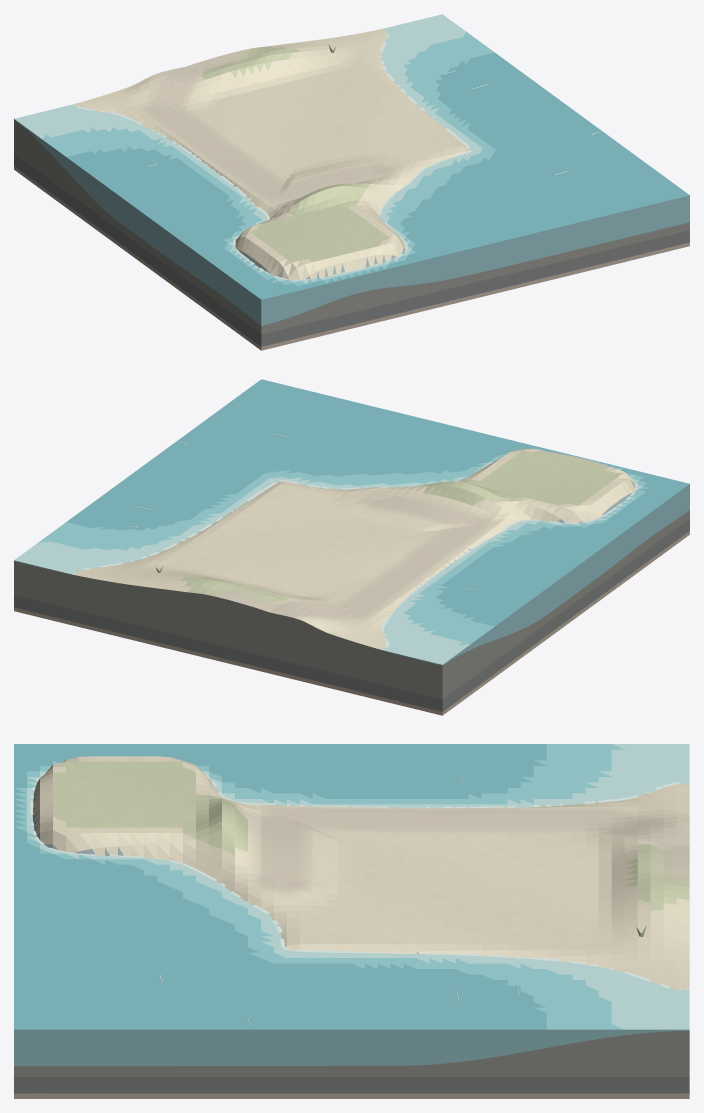
The picture shows the model from 3 angles, top to bottom: view 1: azimuth 30°, elevation 25°; view 2: azimuth 150°, elevation 25°; view 3: azimuth 270°, elevation 25°; orthographic projection. The views are drawn at different scales.
Parts seen in each view (by area): view 1: proc_water, proc_ground, proc_skirt, proc_water_side, proc_foam; view 2: proc_water, proc_ground, proc_skirt, proc_water_side, proc_foam; view 3: proc_water, proc_ground, proc_skirt, proc_water_side, proc_foam.
Boxes of the visible parts, <box> form: proc_water: <box>14,14,689,299</box>; proc_ground: <box>74,29,469,280</box>; proc_skirt: <box>14,120,689,350</box>; proc_water_side: <box>14,119,689,325</box>; proc_foam: <box>76,28,472,280</box>; proc_water: <box>14,379,689,664</box>; proc_ground: <box>74,448,635,649</box>; proc_skirt: <box>14,510,689,715</box>; proc_water_side: <box>14,484,689,665</box>; proc_foam: <box>72,478,637,647</box>; proc_water: <box>14,744,689,1029</box>; proc_ground: <box>32,756,689,989</box>; proc_skirt: <box>14,1031,689,1098</box>; proc_water_side: <box>14,1029,689,1066</box>; proc_foam: <box>30,773,689,989</box>.
Size of the model in its own units: 8 by 1.28 by 8.
